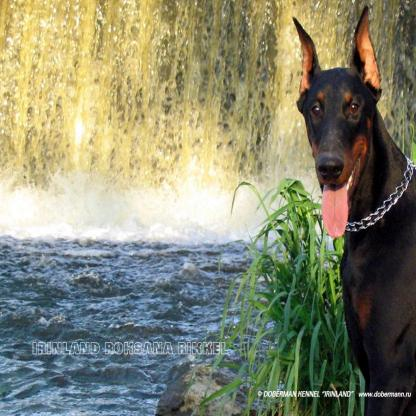Doberman: (290, 5, 414, 408)
